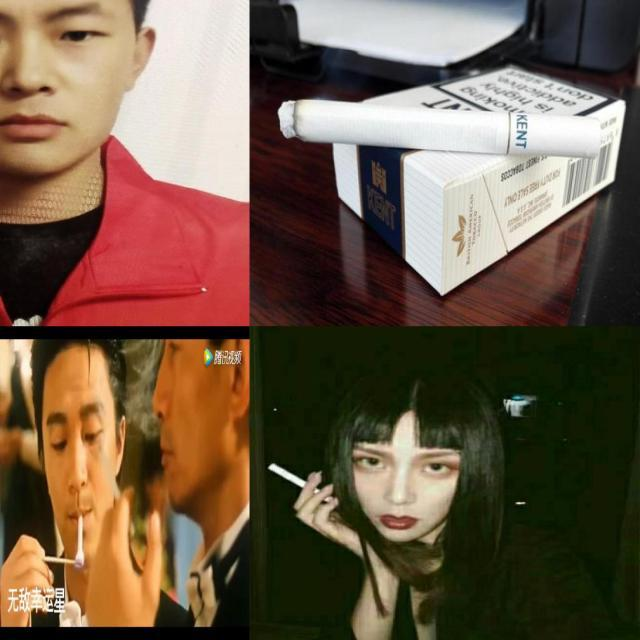smoking: (278, 99, 601, 159), (265, 461, 334, 504), (77, 514, 84, 554)
